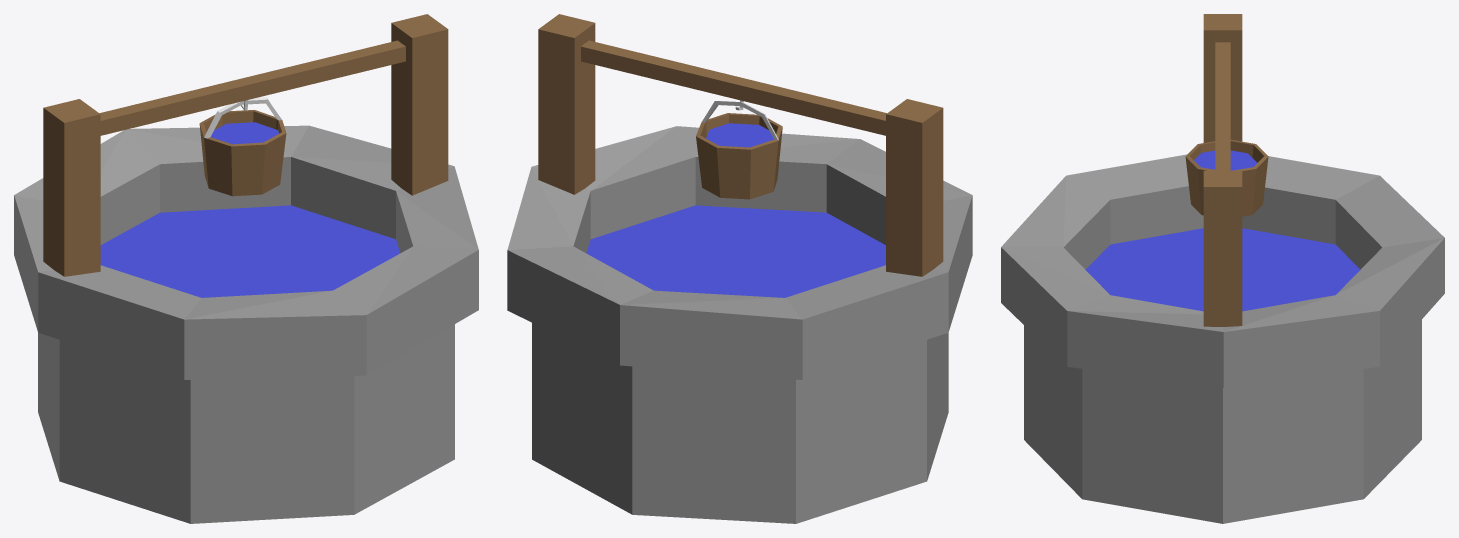
Rendered from Well.fbx.
The picture shows the model from 3 angles, left to right: view 1: azimuth 30°, elevation 25°; view 2: azimuth 150°, elevation 25°; view 3: azimuth 270°, elevation 25°; orthographic projection. The views are drawn at different scales.
Parts seen in each view (by area): view 1: Well; view 2: Well; view 3: Well.
Part boxes in pixels (x1,y1,x2,y2): Well: (14, 14, 478, 523); Well: (507, 14, 972, 523); Well: (1001, 14, 1444, 523).
Size of the model in its own units: 122 by 103 by 122.
